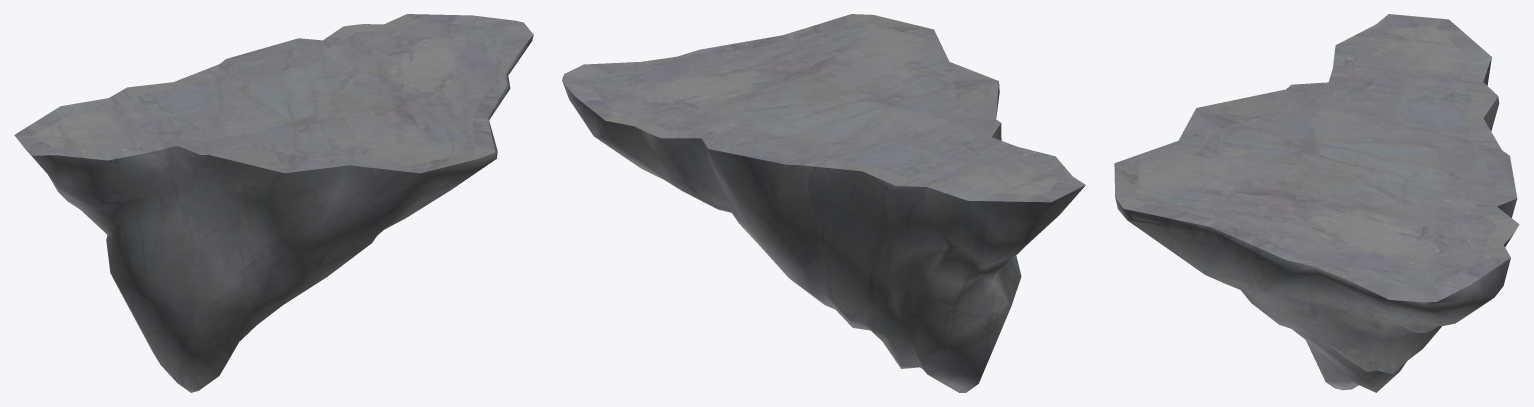
File: Stages_MD_SDLStone06.fbx
3 renders of one model, left to right at view 1: azimuth 30°, elevation 25°; view 2: azimuth 150°, elevation 25°; view 3: azimuth 270°, elevation 25°, orthographic. The views are drawn at different scales.
Visible parts, largest first — view 1: Stages_MD_SDLStone06_Lod1; view 2: Stages_MD_SDLStone06_Lod1; view 3: Stages_MD_SDLStone06_Lod1.
Boxes of the visible parts, <box> form: Stages_MD_SDLStone06_Lod1: <box>14,14,533,392</box>; Stages_MD_SDLStone06_Lod1: <box>562,14,1085,392</box>; Stages_MD_SDLStone06_Lod1: <box>1114,14,1519,392</box>.
Size of the model in its own units: 61.54 by 30.13 by 36.75.
1 material, 1 textured.
